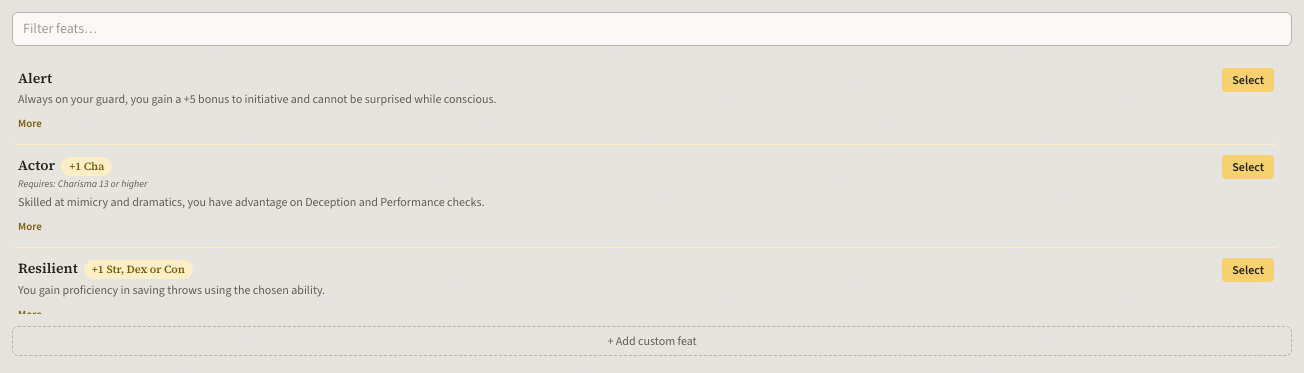
Test case: FeatFlow — catalog list (frame A) › toggles the description clamp via a More/Less button
Step 1. Click the button with aria-label "Show more about Alert" → (30, 124), box [18,116,42,132]
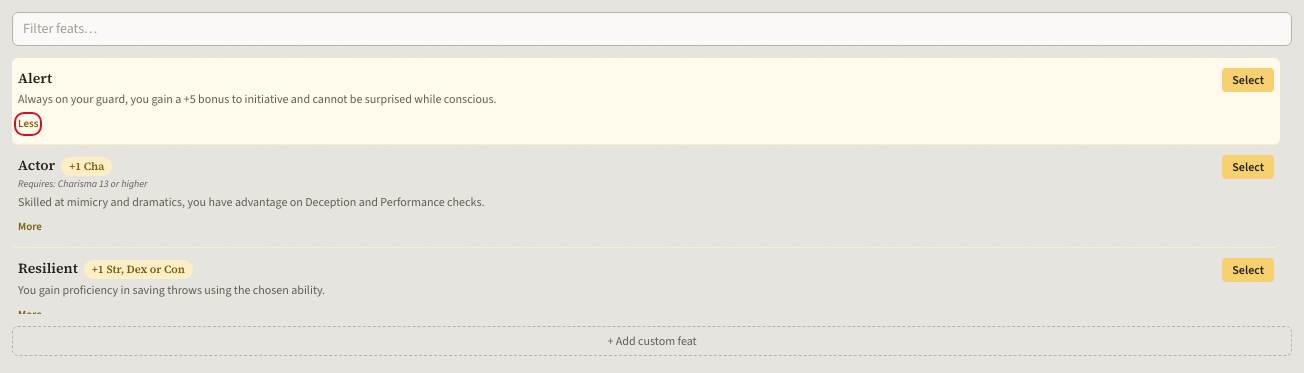
Now the button with aria-label "Show less about Alert" is expanded
Step 2. Click the button with aria-label "Show less about Alert" → (28, 124), box [18,116,38,132]
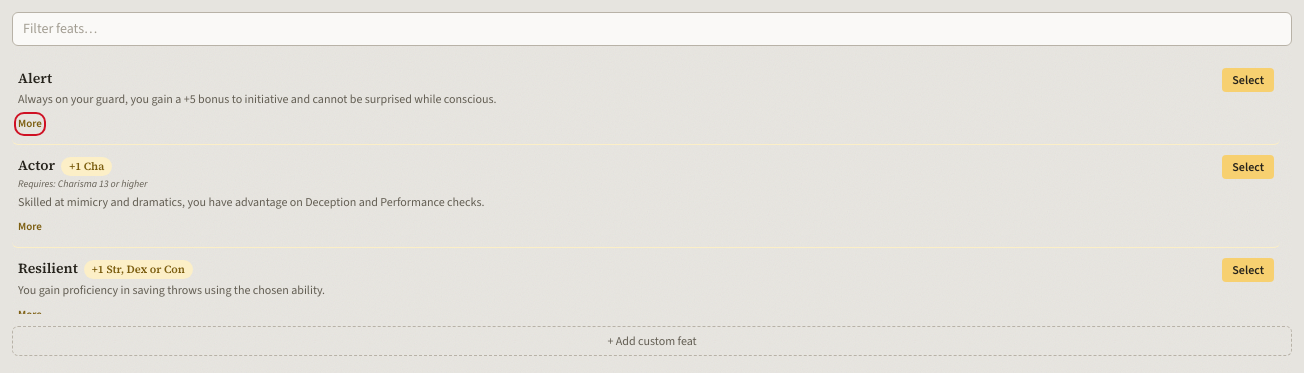
Now the button with aria-label "Show more about Alert" is collapsed, box [18,116,42,132]
